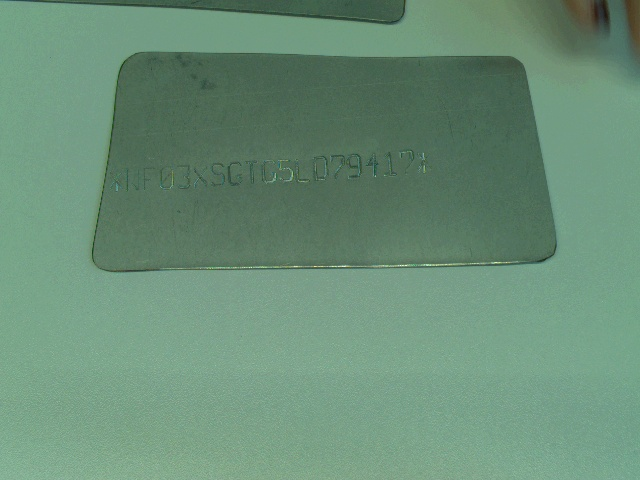0: (158, 164, 175, 190)
1: (381, 150, 399, 177)
3: (176, 163, 192, 190)
4: (366, 152, 380, 178)
5: (277, 159, 295, 185)
7: (329, 153, 346, 180), (400, 149, 415, 175)
9: (348, 153, 364, 179)
d: (311, 154, 329, 184)
f: (141, 164, 156, 191)
g: (261, 158, 279, 185), (228, 160, 245, 186)
l: (294, 159, 311, 184)
s: (210, 160, 227, 187)
t: (246, 159, 261, 186)
w: (124, 165, 143, 192)
x: (192, 163, 210, 189)
